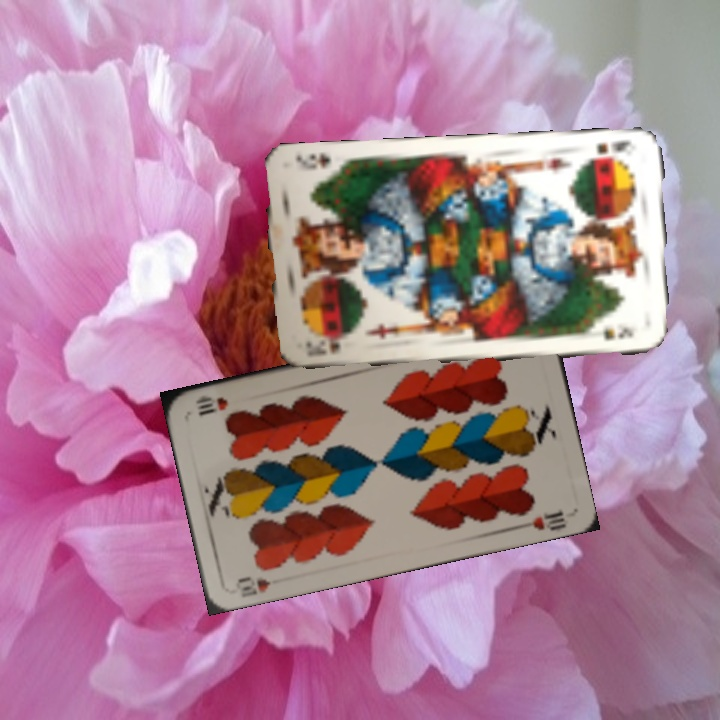H10: (234, 572, 274, 600)
SK: (582, 137, 633, 163), (302, 333, 351, 357)
